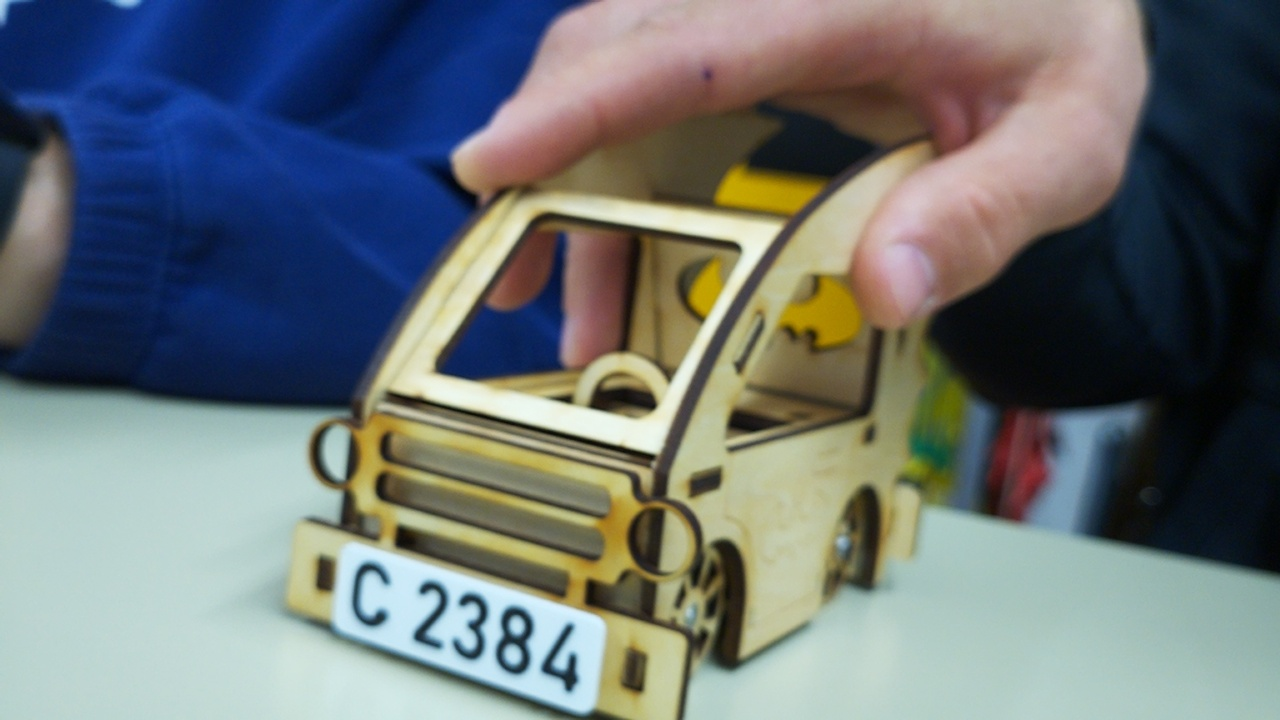license_plate: (329, 536, 611, 718)
